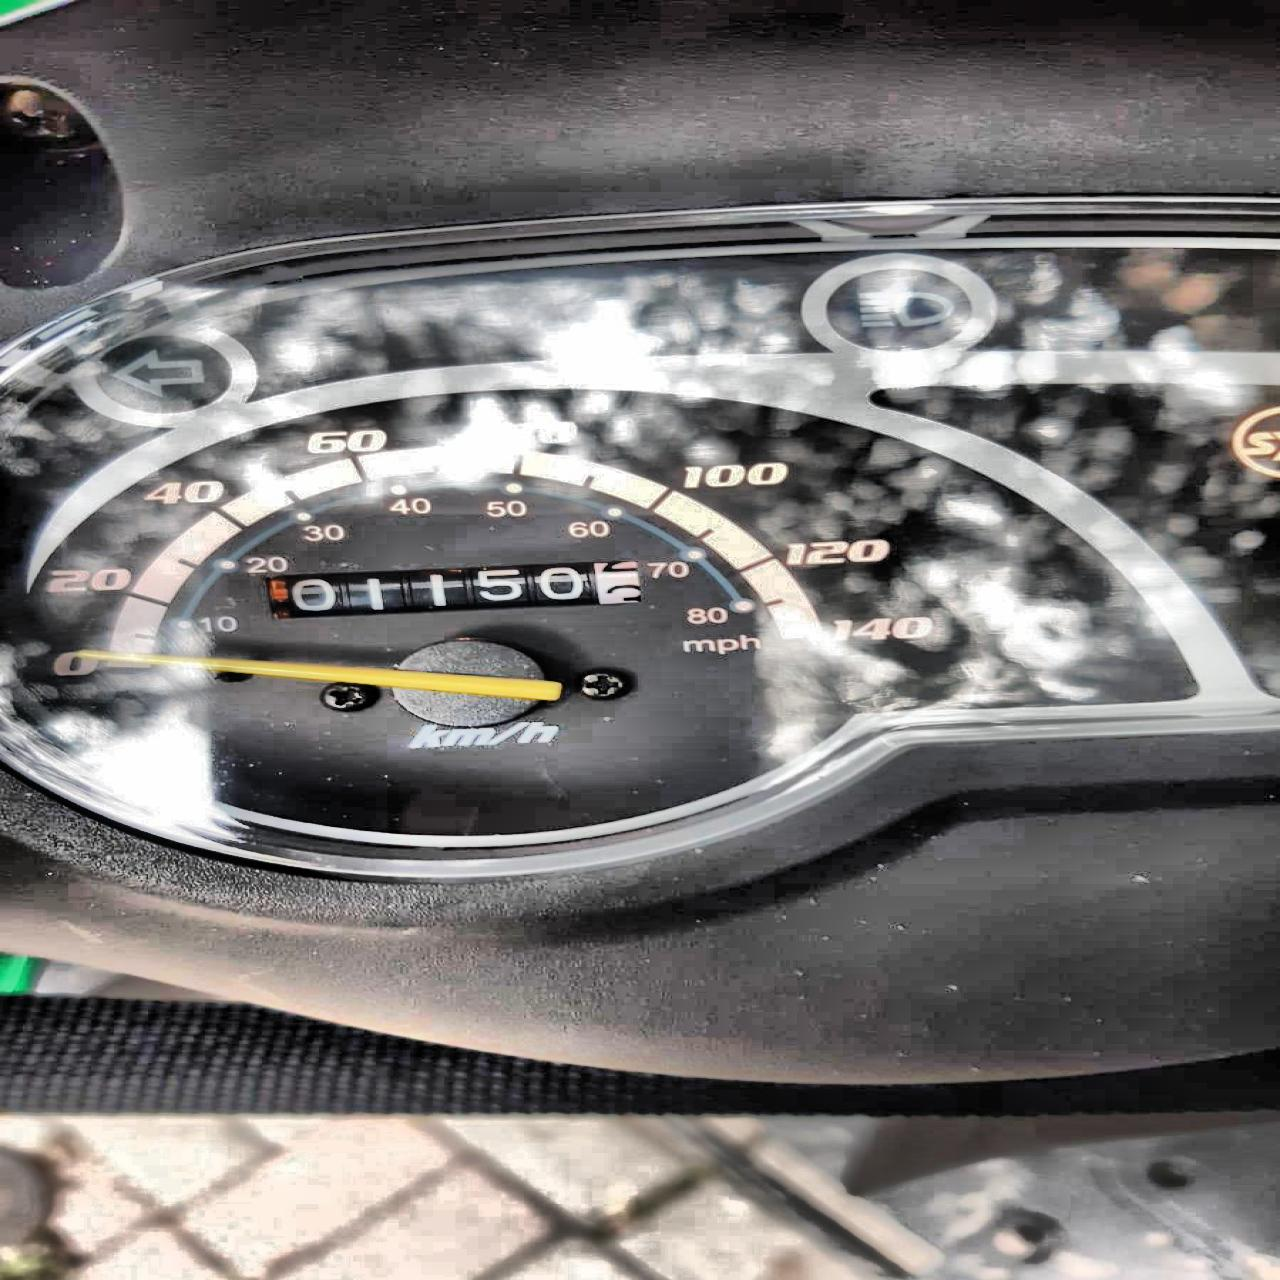0: (536, 563, 584, 601), (290, 576, 339, 610), (265, 554, 291, 572)
1: (360, 570, 392, 611), (423, 570, 451, 610)
3: (602, 579, 645, 610)
5: (475, 565, 526, 606)
odometer: (260, 558, 647, 620)
